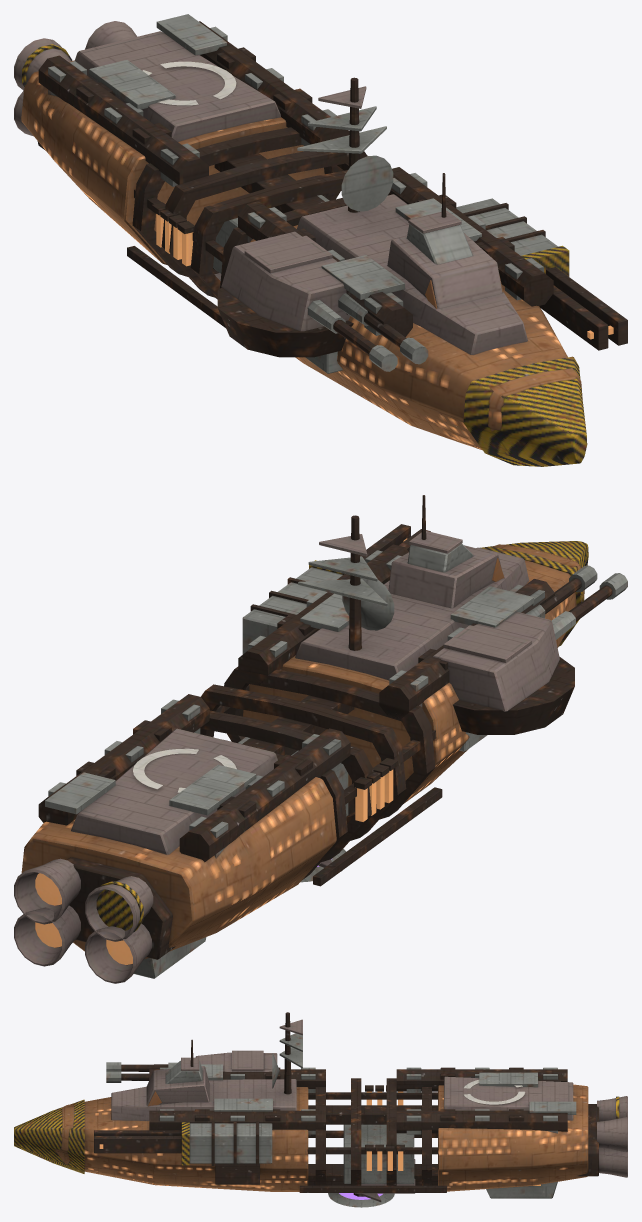
File: dustborn_destroyer.glb
3 views of the same model, one above another, from view 1: azimuth 30°, elevation 25°; view 2: azimuth 150°, elevation 25°; view 3: azimuth 270°, elevation 25° (orthographic). The views are drawn at different scales.
Parts seen in each view (by area): view 1: HULL, SYS_WPN2, SYS_BUS_A, SYS_BUS_F, SYS_BRIDGE, SYS_WPN1, SYS_SENSORS, SYS_DRIVE, SYS_REACTOR; view 2: HULL, SYS_WPN2, SYS_DRIVE, SYS_BUS_A, SYS_BUS_F, SYS_BRIDGE, SYS_SENSORS, SYS_WPN1, SYS_REACTOR, SYS_JUMP; view 3: HULL, SYS_WPN1, SYS_BUS_A, SYS_BUS_F, SYS_DRIVE, SYS_BRIDGE, SYS_WPN2, SYS_SENSORS, SYS_REACTOR, SYS_JUMP, SYS_DAMP.
Part boxes in pixels (x1,y1,x2,y2): HULL: (21, 14, 587, 466); SYS_WPN2: (217, 231, 428, 373); SYS_BUS_A: (38, 21, 349, 186); SYS_BUS_F: (238, 167, 553, 336); SYS_BRIDGE: (387, 173, 503, 308); SYS_WPN1: (456, 198, 627, 350); SYS_SENSORS: (297, 77, 393, 212); SYS_DRIVE: (14, 21, 136, 150); SYS_REACTOR: (151, 202, 221, 299); HULL: (21, 541, 588, 958); SYS_WPN2: (433, 565, 627, 751); SYS_DRIVE: (14, 857, 175, 983); SYS_BUS_A: (38, 694, 350, 862); SYS_BUS_F: (238, 544, 554, 718); SYS_BRIDGE: (388, 495, 504, 608); SYS_SENSORS: (298, 515, 394, 650); SYS_WPN1: (242, 524, 430, 654); SYS_REACTOR: (318, 758, 397, 865); SYS_JUMP: (134, 937, 206, 978); HULL: (14, 1064, 588, 1192); SYS_WPN1: (94, 1121, 272, 1184); SYS_BUS_A: (396, 1067, 567, 1134); SYS_BUS_F: (149, 1067, 325, 1134); SYS_DRIVE: (578, 1096, 627, 1177); SYS_BRIDGE: (146, 1039, 209, 1106); SYS_WPN2: (106, 1050, 277, 1082); SYS_SENSORS: (272, 1012, 302, 1094); SYS_REACTOR: (355, 1085, 415, 1193); SYS_JUMP: (486, 1181, 557, 1198); SYS_DAMP: (328, 1193, 394, 1207).
Bounding box in the file's own units: 16.08 × 15.75 × 47.71.
1 material, 1 textured.
